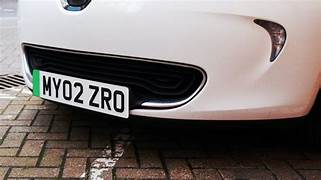number_plate: (33, 68, 129, 119)
